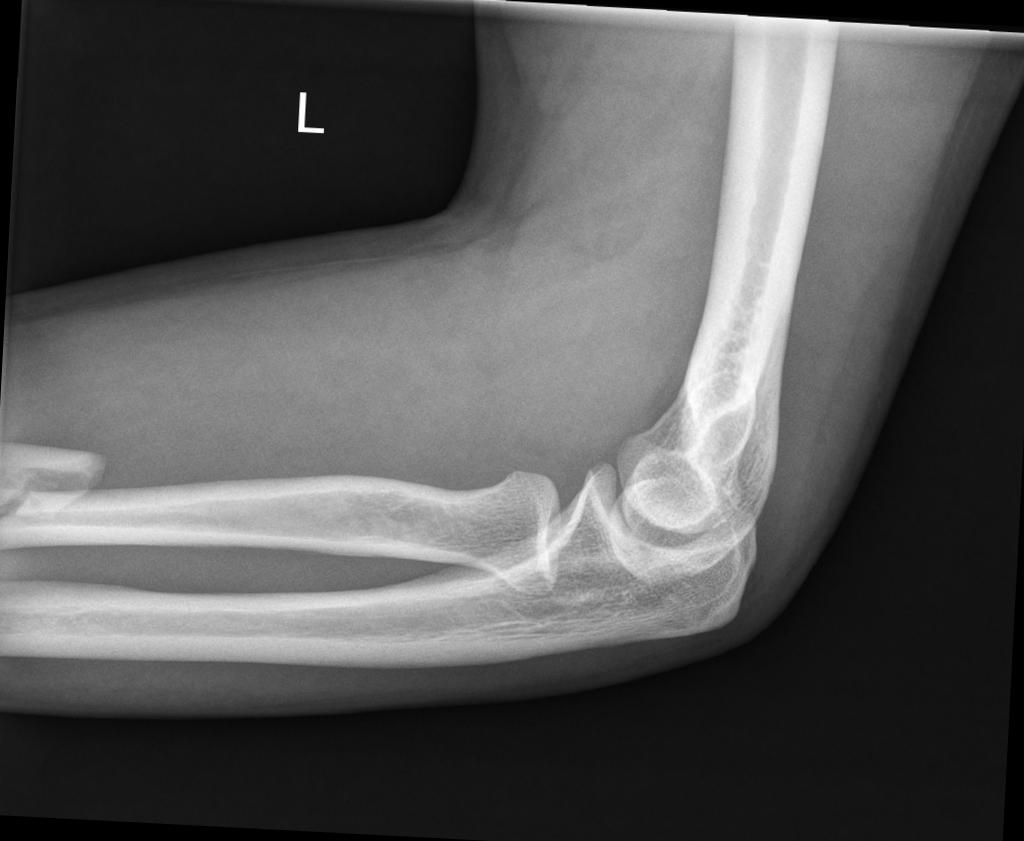messed_up_angle: (0, 425, 120, 558)
